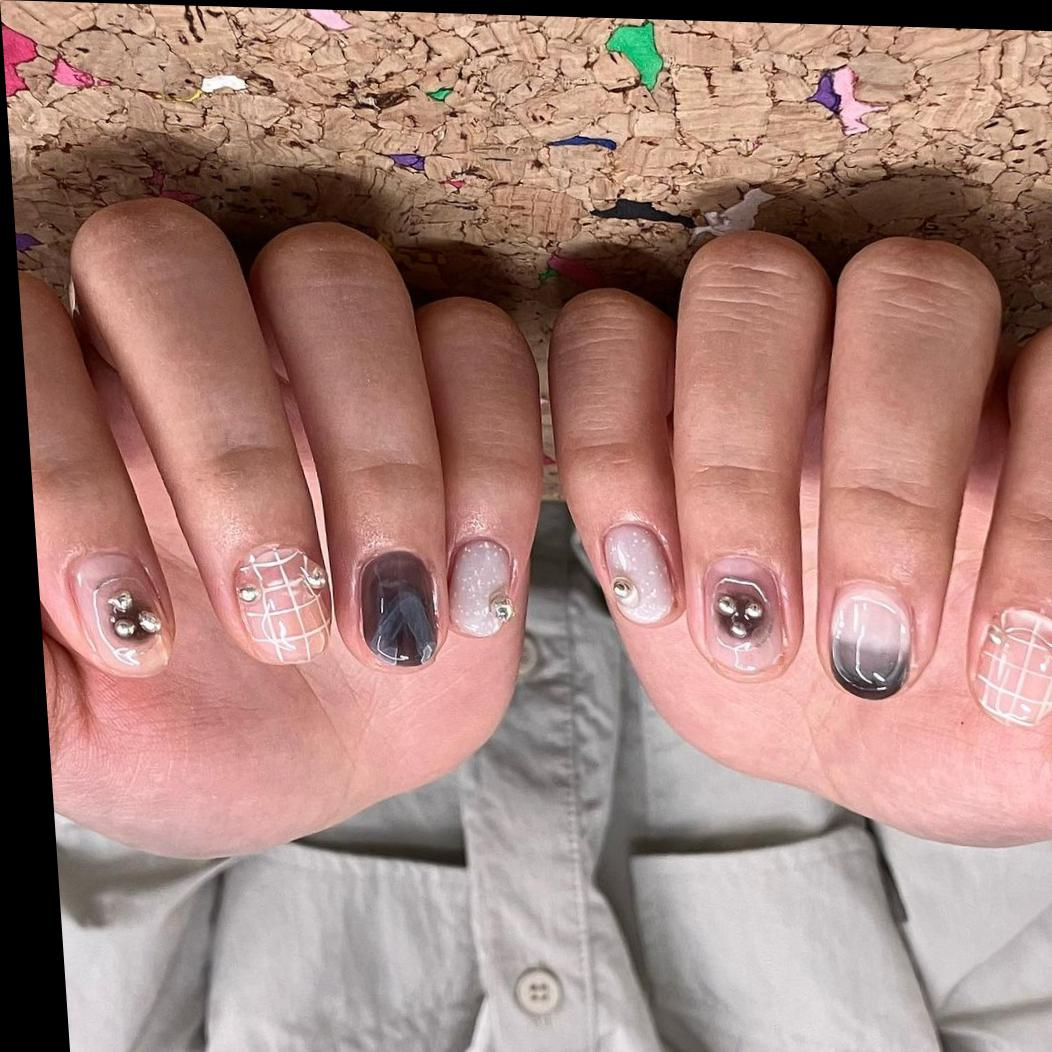nail: (66, 195, 338, 670), (791, 232, 1030, 707), (246, 219, 460, 675), (656, 228, 861, 688), (542, 286, 696, 631), (415, 295, 559, 642), (944, 313, 1052, 731), (66, 549, 178, 679)
